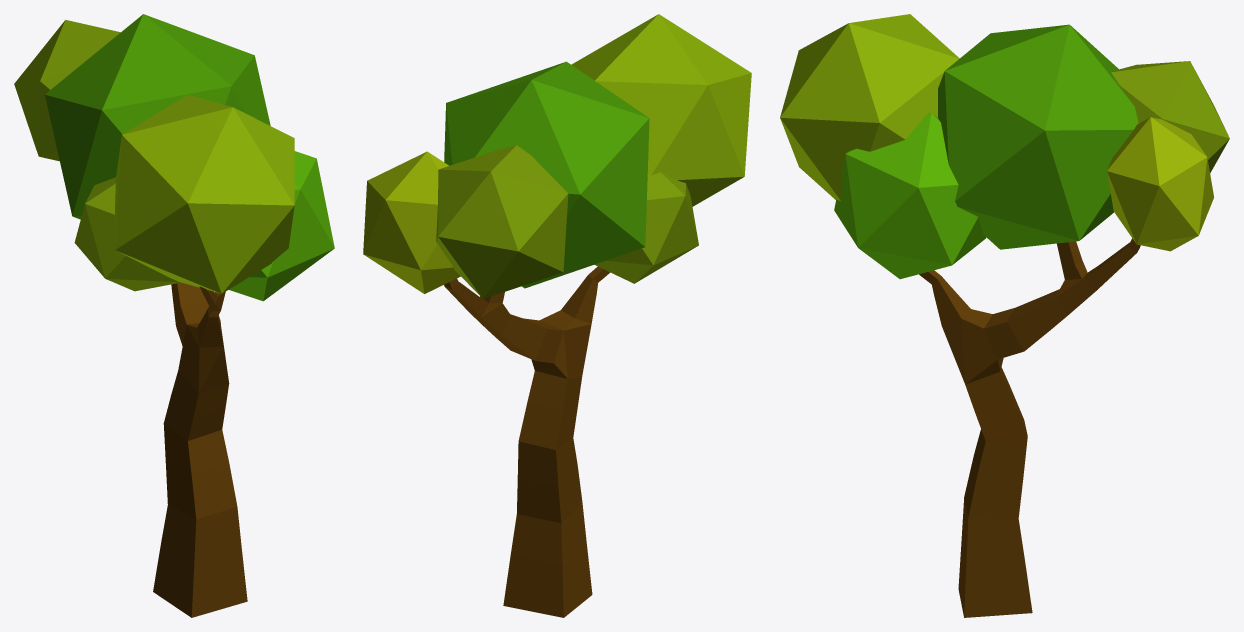
Rendered from NewTree.fbx.
3 views of the same model, side by side, from view 1: azimuth 30°, elevation 25°; view 2: azimuth 150°, elevation 25°; view 3: azimuth 270°, elevation 25° (orthographic). The views are drawn at different scales.
Parts seen in each view (by area): view 1: Icosphere.003, Cube, Icosphere.002, Icosphere.004, Icosphere.005, Icosphere.001; view 2: Icosphere.002, Cube, Icosphere.003, Icosphere.005, Icosphere, Icosphere.001; view 3: Icosphere.002, Cube, Icosphere.003, Icosphere.004, Icosphere, Icosphere.005.
Boxes of the visible parts, box(x1,y1,x2,y2) form: Icosphere.003: box(115, 94, 294, 293); Cube: box(153, 282, 247, 617); Icosphere.002: box(45, 14, 270, 219); Icosphere.004: box(229, 151, 334, 301); Icosphere.005: box(14, 20, 120, 161); Icosphere.001: box(74, 177, 180, 291); Icosphere.002: box(444, 61, 649, 288); Cube: box(444, 266, 609, 617); Icosphere.003: box(571, 14, 751, 206); Icosphere.005: box(436, 145, 568, 298); Icosphere: box(363, 151, 460, 293); Icosphere.001: box(594, 172, 698, 283); Icosphere.002: box(938, 24, 1138, 249); Cube: box(919, 238, 1140, 617); Icosphere.003: box(780, 14, 959, 201); Icosphere.004: box(834, 113, 986, 279); Icosphere: box(1107, 117, 1213, 251); Icosphere.005: box(1111, 61, 1229, 173).
Bounding box in the file's own units: 224 × 491 × 353.
